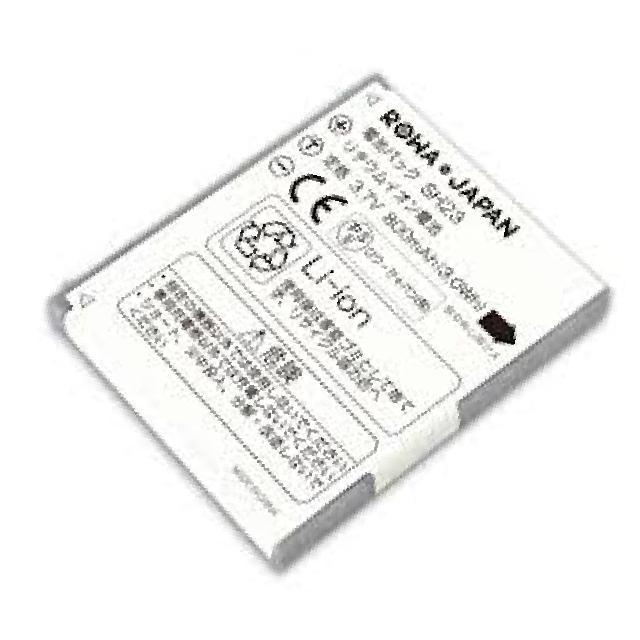Battery: (21, 42, 640, 582)
